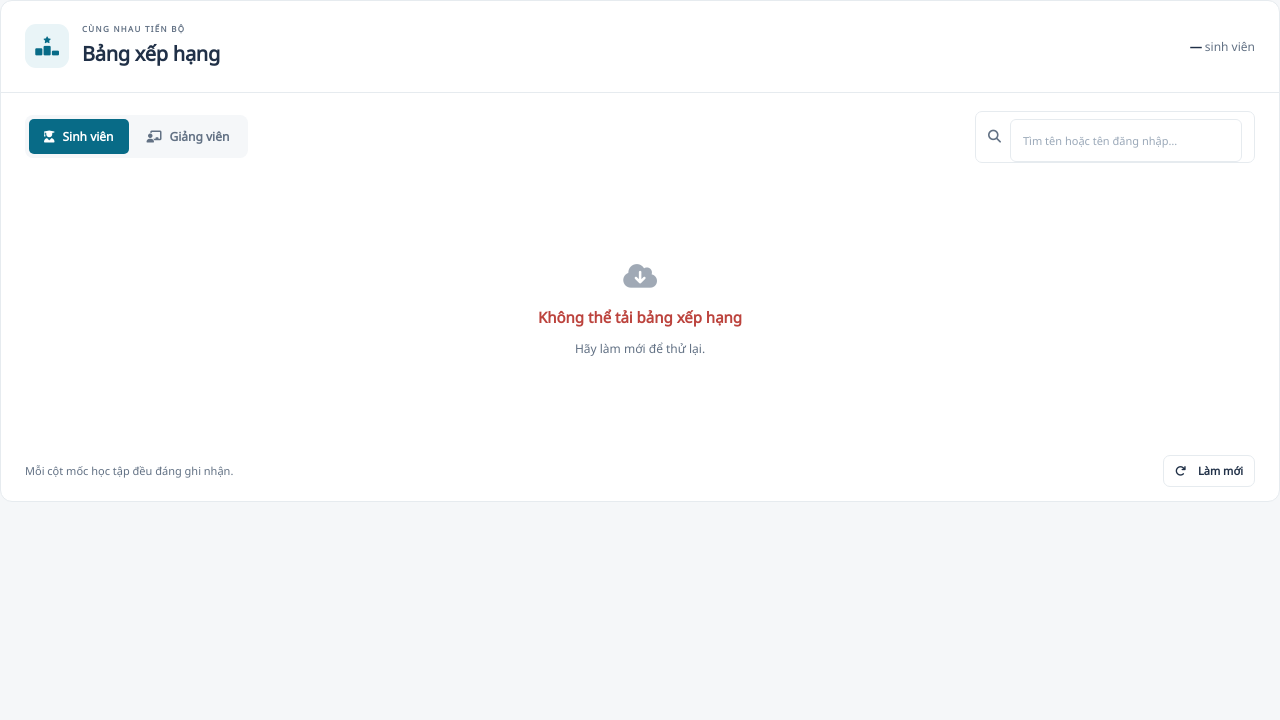
it: Leaderboard workspace › shows Vietnamese error recovery and a real empty state
The width and height of the screenshot is (1280, 720).
Expected: the message shows "Không thể tải", x1=538 y1=307 x2=742 y2=327
Step 1. Click the button "Làm mới" → (1209, 471), box x1=1163 y1=455 x2=1255 y2=488
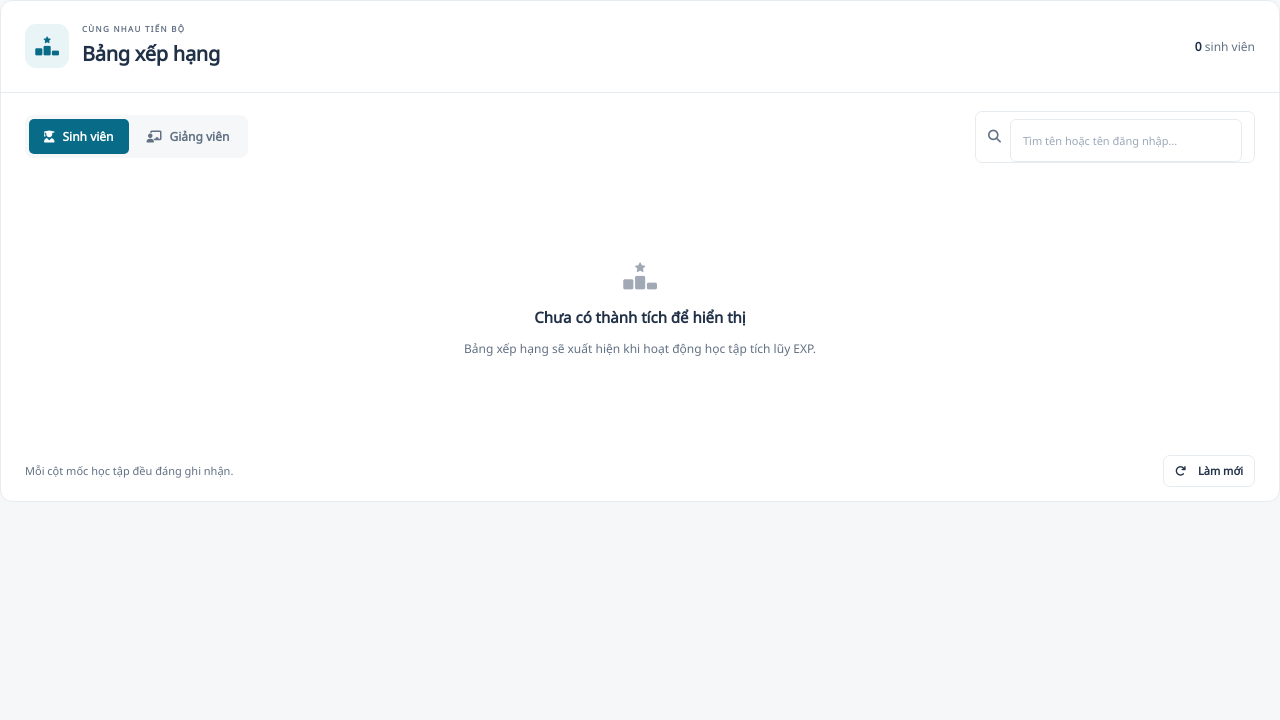
Now the heading "Chưa có thành tích để hiển thị" is shown, box x1=534 y1=305 x2=746 y2=329
